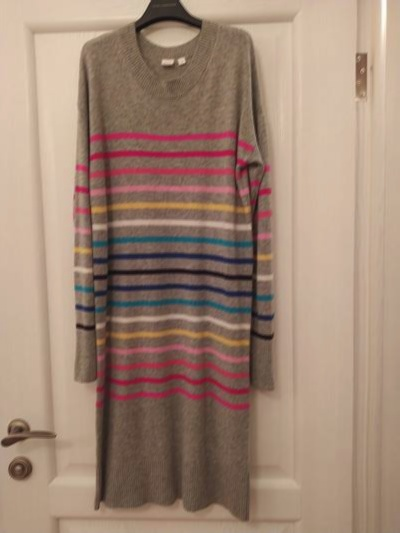Dress: (47, 19, 303, 517)
